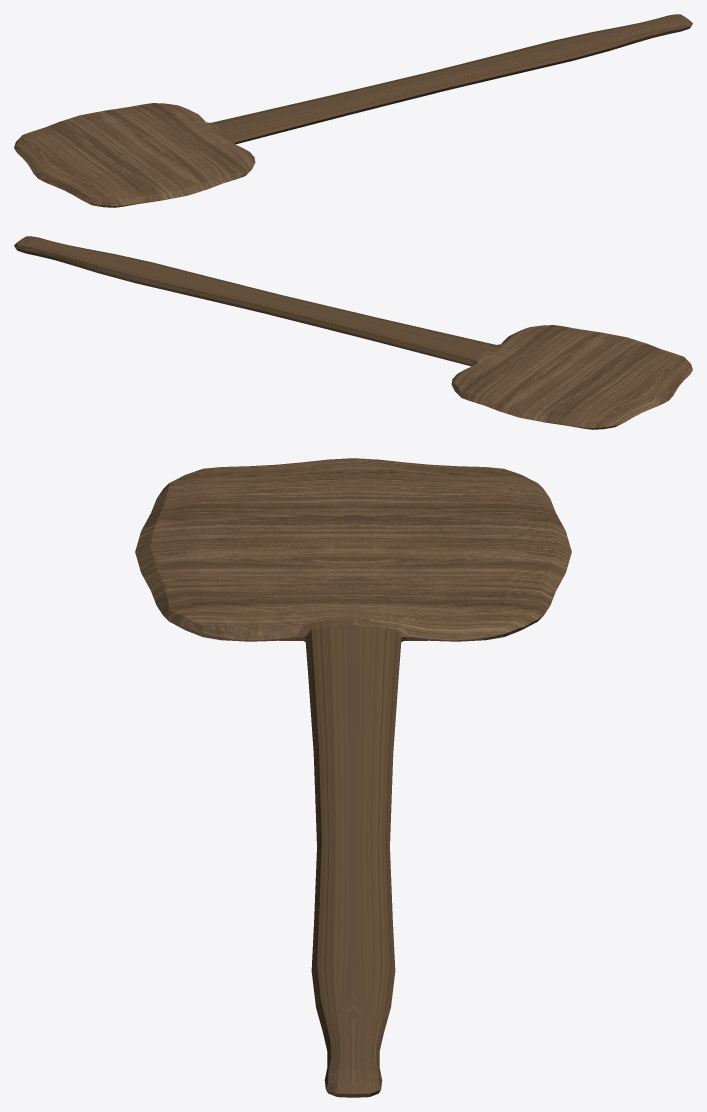
Rendered from pizzaTool.glb.
3 views of the same model, one above another, from view 1: azimuth 30°, elevation 25°; view 2: azimuth 150°, elevation 25°; view 3: azimuth 270°, elevation 25° (orthographic). The views are drawn at different scales.
Visible parts, largest first — view 1: toolPizza; view 2: toolPizza; view 3: toolPizza.
Boxes of the visible parts, <box> form: toolPizza: <box>14,14,692,207</box>; toolPizza: <box>14,236,692,429</box>; toolPizza: <box>135,458,571,1097</box>.
Size of the model in its own units: 7.47 by 0.1193 by 2.17.
Materials: 1 (1 with a texture image).
